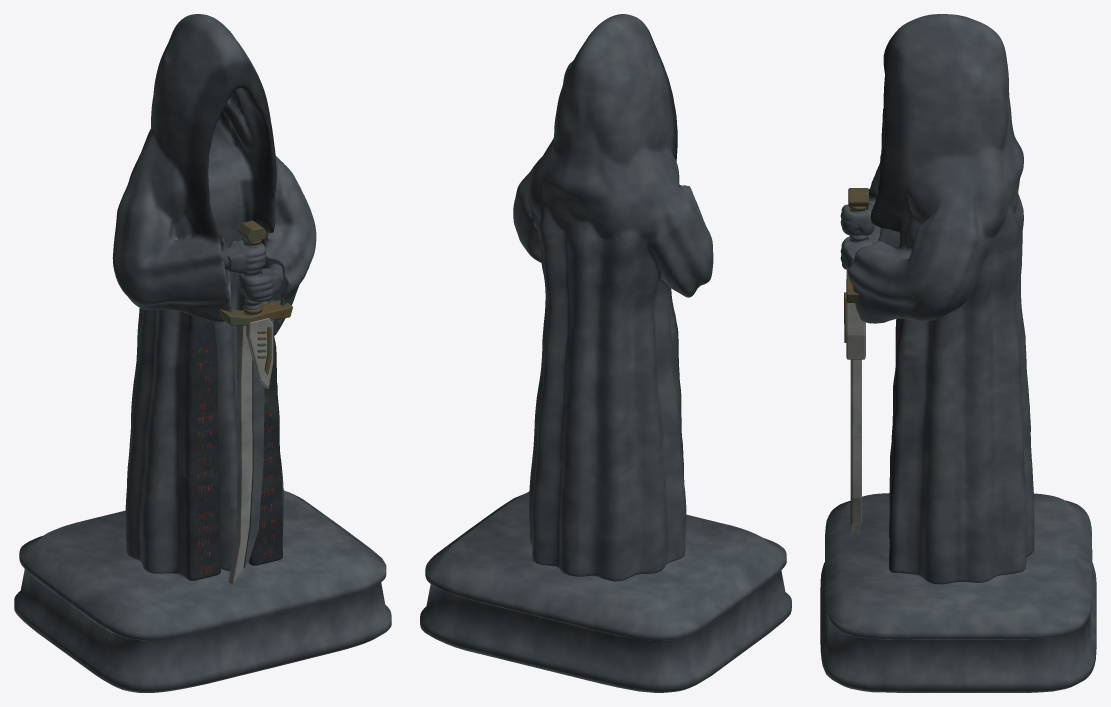
The model's file is vigia_umbral.glb.
3 renders of one model, left to right at view 1: azimuth 30°, elevation 25°; view 2: azimuth 150°, elevation 25°; view 3: azimuth 270°, elevation 25°, orthographic. The views are drawn at different scales.
Parts seen in each view (by area): view 1: Basalto_Gris_Desgastado_GLTF, Piedra_Clara_Mate_GLTF, Bronce_Envejecido_GLTF; view 2: Basalto_Gris_Desgastado_GLTF; view 3: Basalto_Gris_Desgastado_GLTF, Piedra_Clara_Mate_GLTF, Bronce_Envejecido_GLTF.
Boxes of the visible parts, <box> form: Basalto_Gris_Desgastado_GLTF: <box>14,14,391,692</box>; Piedra_Clara_Mate_GLTF: <box>30,318,379,640</box>; Bronce_Envejecido_GLTF: <box>219,220,292,374</box>; Basalto_Gris_Desgastado_GLTF: <box>420,14,791,692</box>; Basalto_Gris_Desgastado_GLTF: <box>820,14,1096,692</box>; Piedra_Clara_Mate_GLTF: <box>846,279,1082,639</box>; Bronce_Envejecido_GLTF: <box>844,188,868,342</box>.
Size of the model in its own units: 3.7 by 7.56 by 3.1.
Materials: 3 (3 with a texture image).
